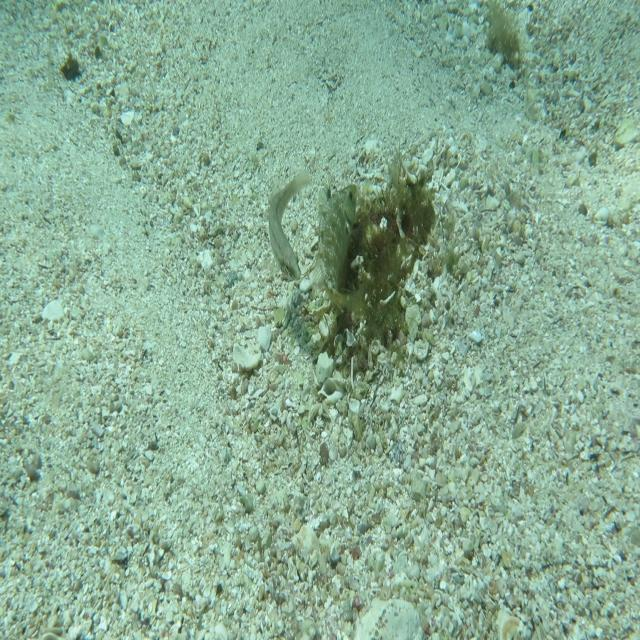BEND_OPP: (314, 179, 368, 319)
female: (265, 166, 313, 284)
nest: (308, 158, 440, 377)
